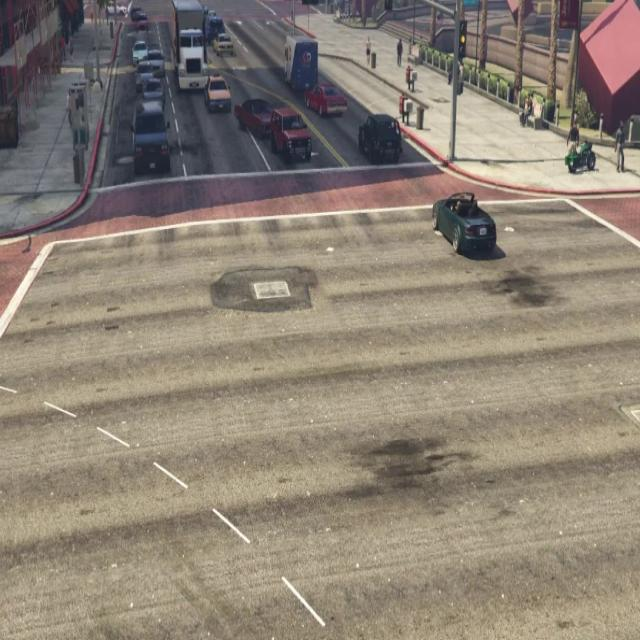Yellow-Signal: (456, 14, 469, 70), (382, 0, 396, 17)
